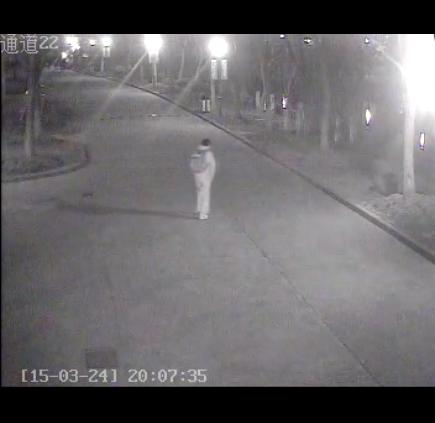person: (181, 128, 222, 225)
